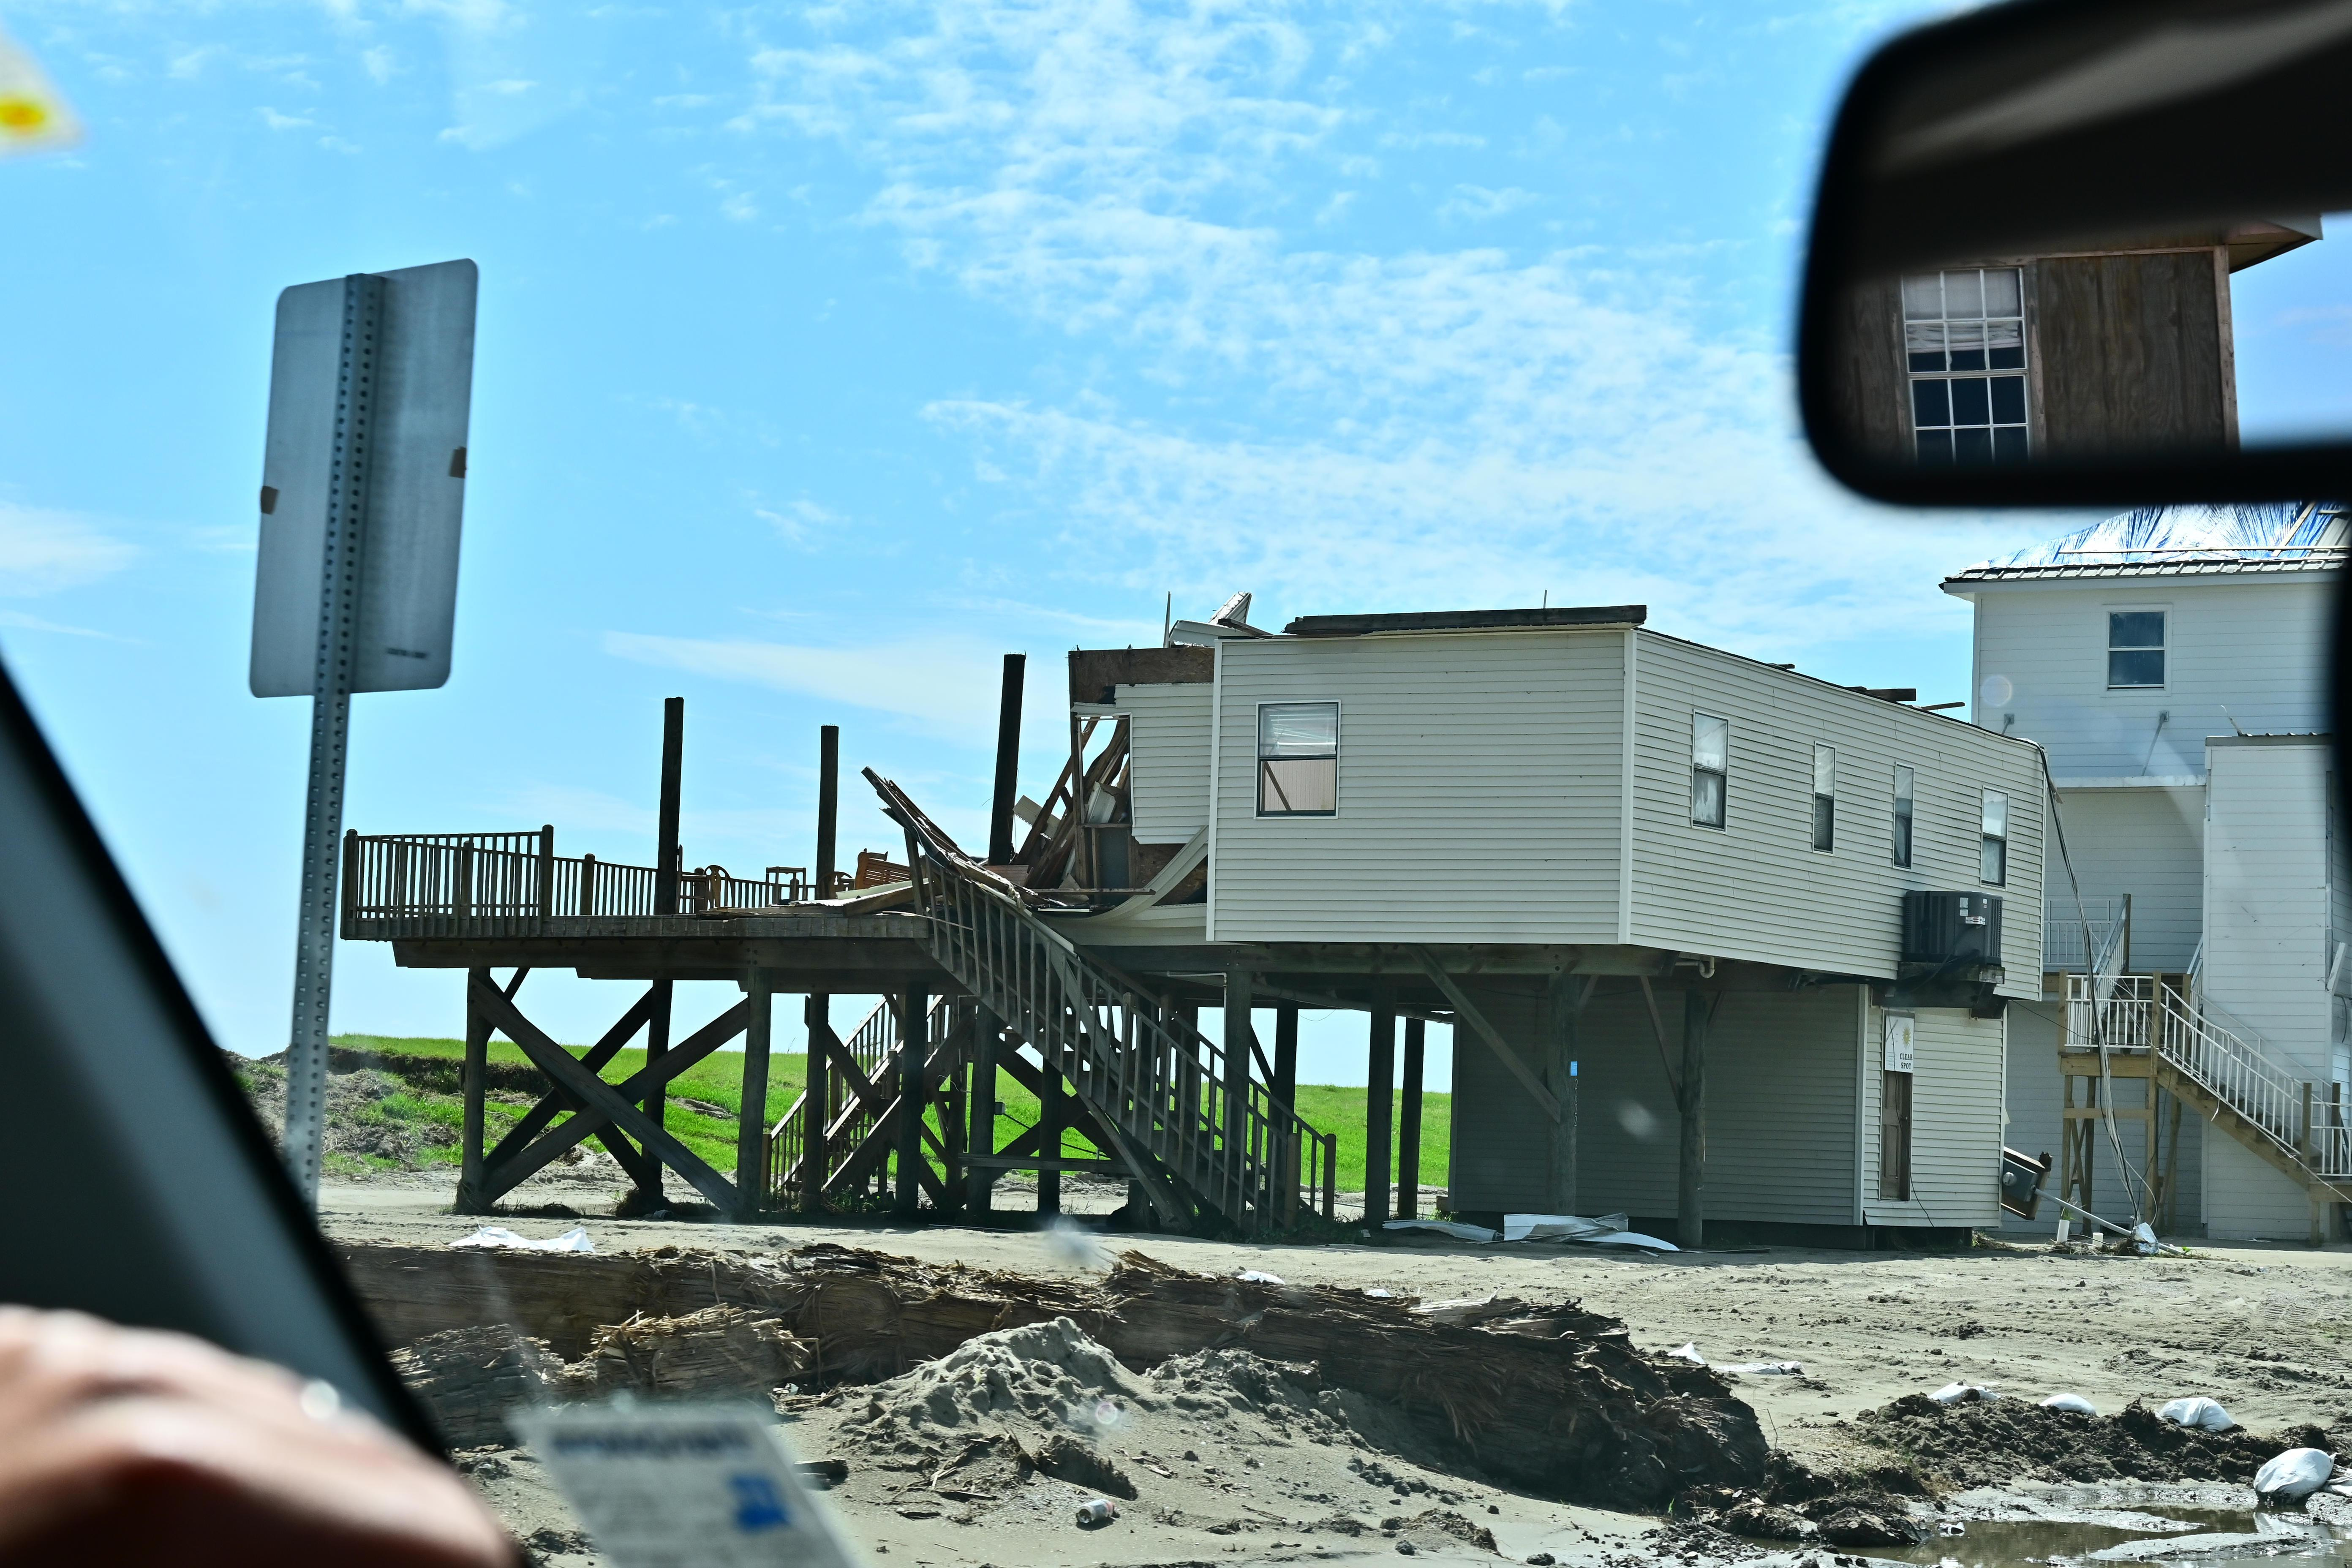destroyed: (275, 492, 2093, 1285)
